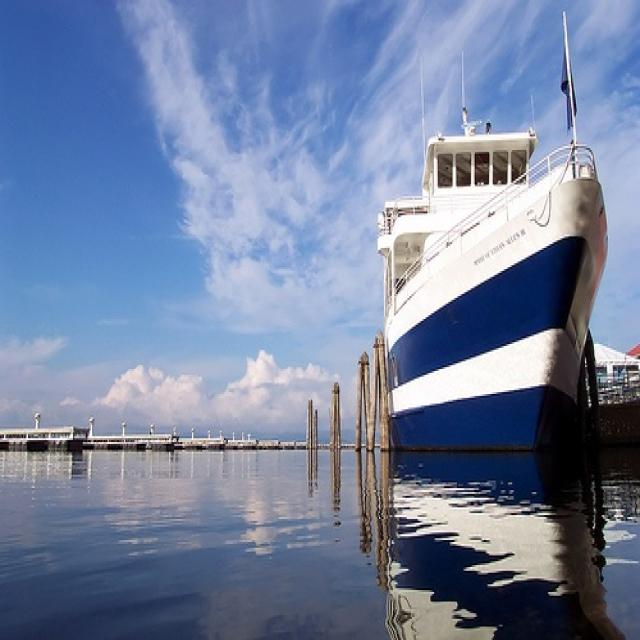boat: (376, 10, 612, 459)
